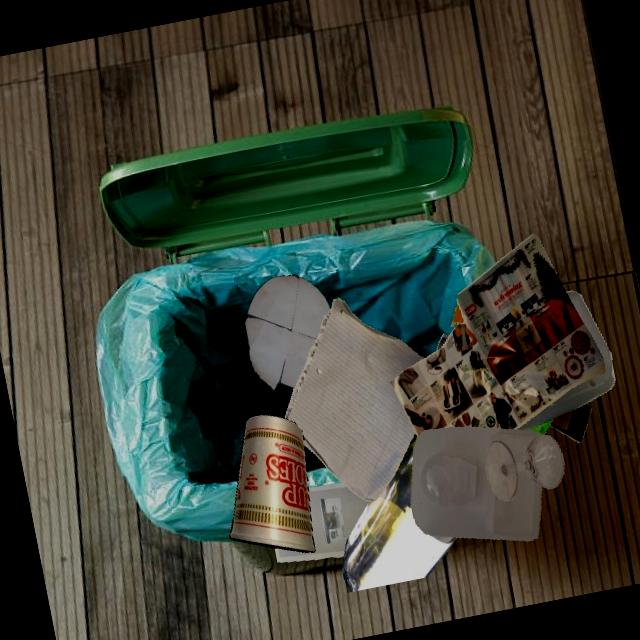biowaste: (451, 304, 464, 327)
cardboard: (550, 403, 591, 442)
glass: (342, 435, 457, 592), (485, 435, 564, 501)
paper: (391, 234, 605, 437), (284, 297, 424, 503), (245, 274, 330, 391), (275, 482, 368, 562)
plastic: (411, 426, 543, 541), (516, 291, 615, 430), (526, 418, 554, 435), (293, 388, 294, 390)
trash: (230, 415, 316, 552)
